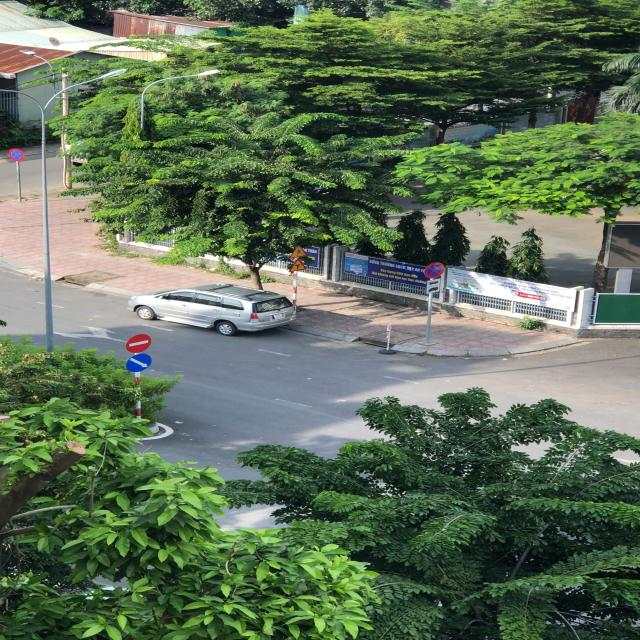Bien bao cam di nguoc chieu: (124, 332, 156, 354)
Bien bao duong giao nhau: (288, 258, 312, 273)
Bien bao duong nguoi di bo cat ngang: (287, 244, 309, 258)
Bien bao huong phai di vong chuong ngai vat: (124, 352, 155, 374)
